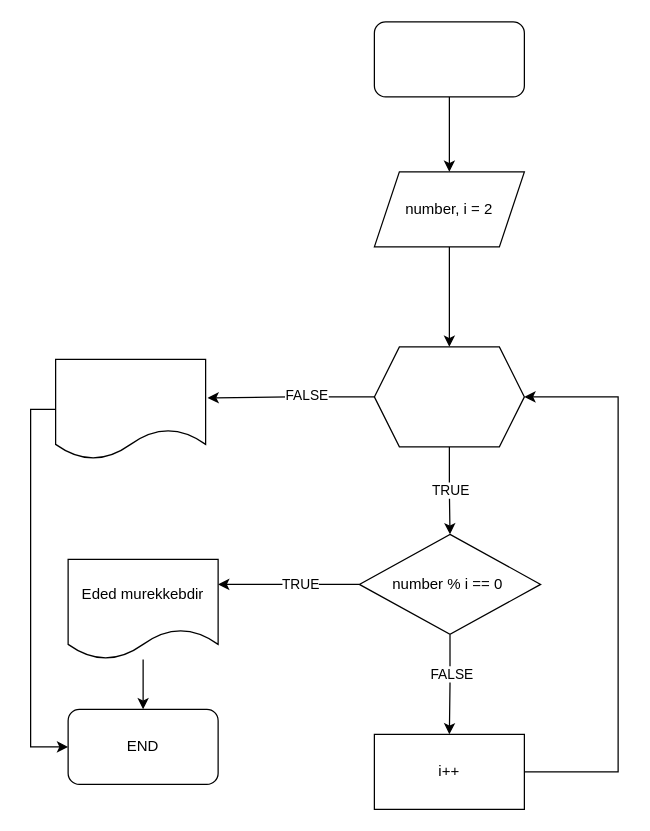
The diagram is 650 pixels wide and 831 high, and some of its shapes have lost their labels. Each missing label, with the centre of its shape:
"Eded sadedir" goes at point 130,408.
"i < number" goes at point 448,396.
"START" goes at point 448,59.
